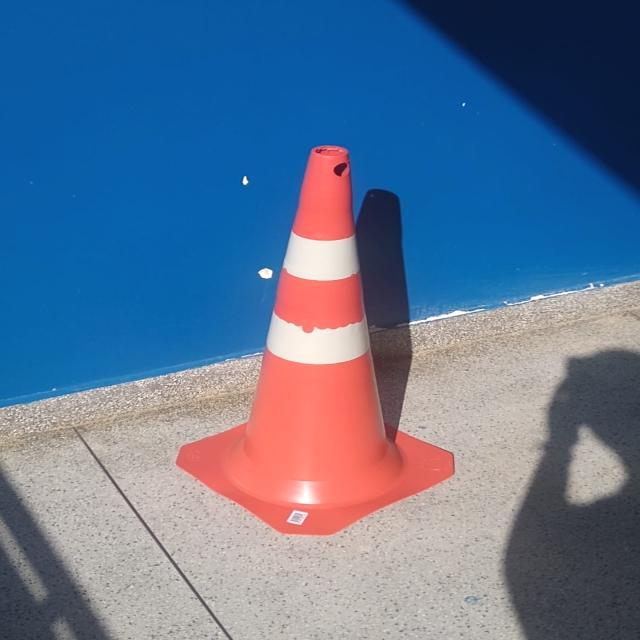Cone: (125, 134, 487, 546)
